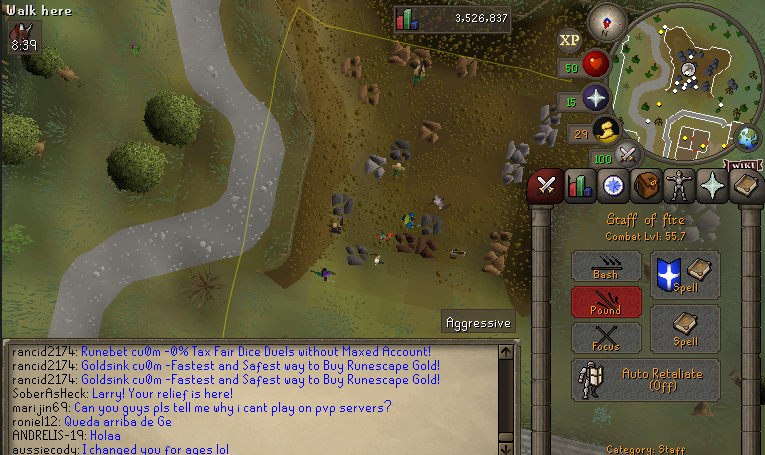depleted: (388, 132, 418, 167), (342, 240, 375, 271), (328, 187, 358, 221), (416, 210, 446, 238)
iron: (394, 226, 420, 255), (417, 235, 440, 263)
